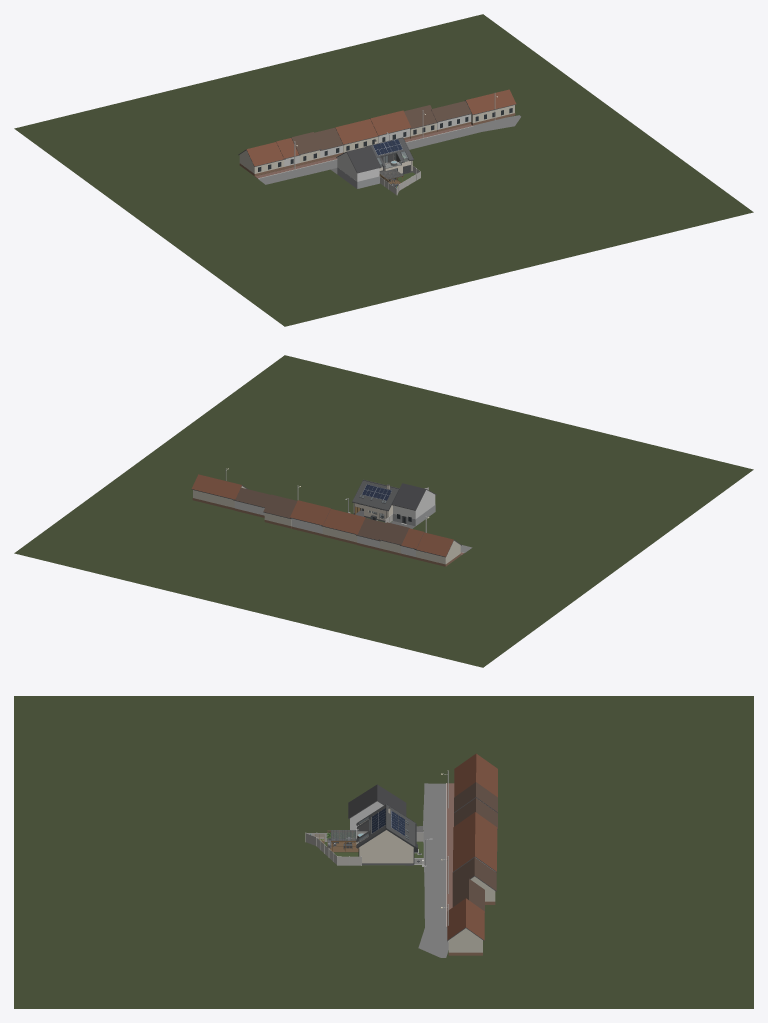
The model's file is RDModrice.glb.
3 views of the same model, one above another, from view 1: azimuth 30°, elevation 25°; view 2: azimuth 150°, elevation 25°; view 3: azimuth 270°, elevation 25° (orthographic). The views are drawn at different scales.
Parts seen in each view (by area): view 1: RD_teren_Teren_okoli, RD_teren_soused_Protejsi_radova_zastavba_Starydumkrytin, RD_teren_soused_Protejsi_radova_zastavba_Starydumkrytin.001, RD_teren_Ulice_Stara_cihelna, RD_teren_soused_Protejsi_radova_zastavba_Starydumomitka, RD_teren_soused_Protejsi_radova_zastavba_Starydumomitka.001, RD_teren_soused_Protejsi_radova_zastavba_Starydumsoklhn, RD_teren_soused_Soused_zapad_RD_p.c.1296_Sousednidumkry, RD_teren_soused_Soused_zapad_RD_p.c.1296_Sousednidumomi, RD_teren_soused_Protejsi_radova_zastavba_Oknotmave; view 2: RD_teren_Teren_okoli, RD_teren_soused_Protejsi_radova_zastavba_Starydumkrytin, RD_teren_soused_Protejsi_radova_zastavba_Starydumkrytin.001, RD_teren_soused_Protejsi_radova_zastavba_Starydumomitka, RD_teren_soused_Protejsi_radova_zastavba_Starydumomitka.001, RD_teren_soused_Protejsi_radova_zastavba_Starydumsoklhn, RD_strecha_Strecha_krytina_Bramac, RD_teren_soused_Soused_zapad_RD_p.c.1296_Sousednidumkry; view 3: RD_teren_Teren_okoli, RD_teren_soused_Protejsi_radova_zastavba_Starydumkrytin, RD_teren_Ulice_Stara_cihelna, RD_teren_soused_Protejsi_radova_zastavba_Starydumkrytin.001, RD_teren_Chodnik_ZDL_Chodnikcervena, RD_teren_soused_Soused_zapad_RD_p.c.1296_Sousednidumkry, RD_teren_soused_Protejsi_radova_zastavba_Starydumomitka, RD_Obvod_Steny_podkrovi_Aomitkasvetles, RD_strecha_Strecha_krytina_Bramac, RD_Obvod_Steny_1NP_Aomitkasvetles, RD_teren_Plot_betonovy_zahrada.
Part boxes in pixels (x1,y1,x2,y2): RD_teren_Teren_okoli: (14,14,753,326); RD_teren_soused_Protejsi_radova_zastavba_Starydumkrytin: (246,89,516,166); RD_teren_soused_Protejsi_radova_zastavba_Starydumkrytin.001: (291,101,471,154); RD_teren_Ulice_Stara_cihelna: (258,115,520,184); RD_teren_soused_Protejsi_radova_zastavba_Starydumomitka: (239,101,514,173); RD_teren_soused_Protejsi_radova_zastavba_Starydumomitka.001: (284,114,470,166); RD_teren_soused_Protejsi_radova_zastavba_Starydumsoklhn: (239,113,515,176); RD_teren_soused_Soused_zapad_RD_p.c.1296_Sousednidumkry: (347,146,380,172); RD_teren_soused_Soused_zapad_RD_p.c.1296_Sousednidumomi: (337,152,379,181); RD_teren_soused_Protejsi_radova_zastavba_Oknotmave: (258,108,512,171); RD_teren_Teren_okoli: (14,355,753,667); RD_teren_soused_Protejsi_radova_zastavba_Starydumkrytin: (191,474,453,556); RD_teren_soused_Protejsi_radova_zastavba_Starydumkrytin.001: (233,487,408,544); RD_teren_soused_Protejsi_radova_zastavba_Starydumomitka: (193,486,460,564); RD_teren_soused_Protejsi_radova_zastavba_Starydumomitka.001: (234,501,415,556); RD_teren_soused_Protejsi_radova_zastavba_Starydumsoklhn: (192,498,460,566); RD_strecha_Strecha_krytina_Bramac: (352,480,398,509); RD_teren_soused_Soused_zapad_RD_p.c.1296_Sousednidumkry: (392,483,425,510); RD_teren_Teren_okoli: (14,696,753,1008); RD_teren_soused_Protejsi_radova_zastavba_Starydumkrytin: (447,753,497,940); RD_teren_Ulice_Stara_cihelna: (418,783,448,957); RD_teren_soused_Protejsi_radova_zastavba_Starydumkrytin.001: (452,782,497,912); RD_teren_Chodnik_ZDL_Chodnikcervena: (446,783,454,926); RD_teren_soused_Soused_zapad_RD_p.c.1296_Sousednidumkry: (348,784,406,818); RD_teren_soused_Protejsi_radova_zastavba_Starydumomitka: (448,876,495,952); RD_Obvod_Steny_podkrovi_Aomitkasvetles: (359,819,413,851); RD_strecha_Strecha_krytina_Bramac: (357,805,415,846); RD_Obvod_Steny_1NP_Aomitkasvetles: (359,851,413,863); RD_teren_Plot_betonovy_zahrada: (305,833,361,865).
Size of the model in its own units: 150 by 9.58 by 150.
